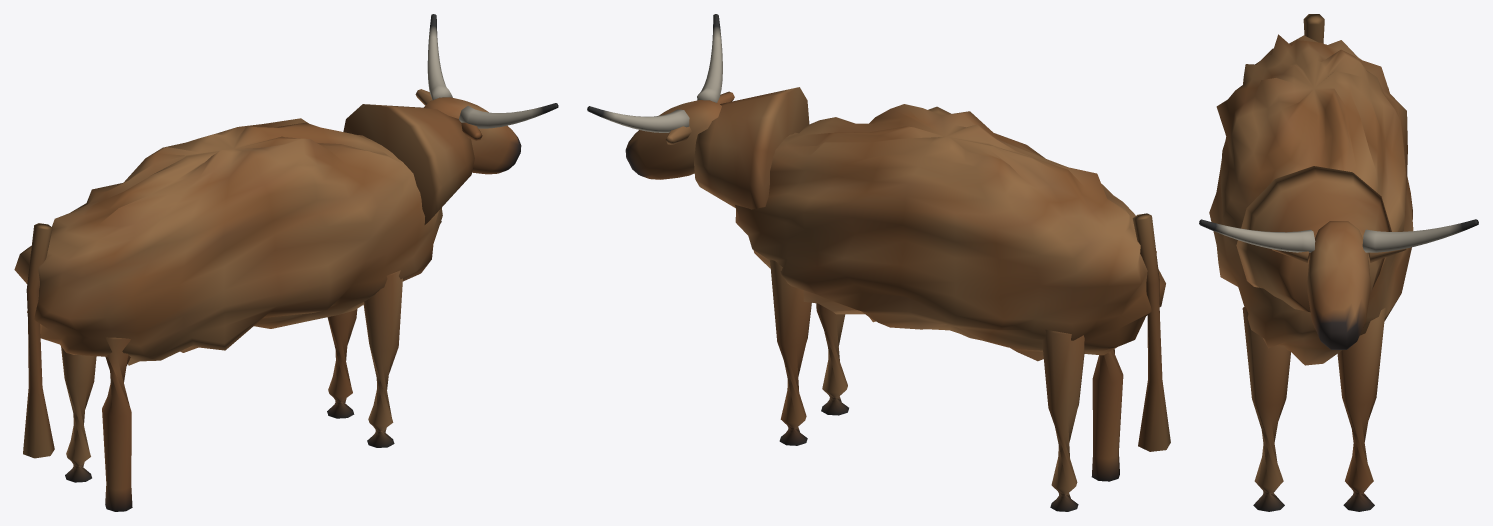
File: SM_Animal_highland_1.glb
3 views of the same model, side by side, from view 1: azimuth 30°, elevation 25°; view 2: azimuth 150°, elevation 25°; view 3: azimuth 270°, elevation 25° (orthographic). The views are drawn at different scales.
Parts seen in each view (by area): view 1: SM_Animal_highland_1; view 2: SM_Animal_highland_1; view 3: SM_Animal_highland_1.
Part boxes in pixels (box(x1,y1,x2,y2)): SM_Animal_highland_1: box(14, 14, 558, 511); SM_Animal_highland_1: box(587, 14, 1170, 511); SM_Animal_highland_1: box(1199, 14, 1478, 511).
Size of the model in its own units: 2.48 by 1.52 by 1.06.
